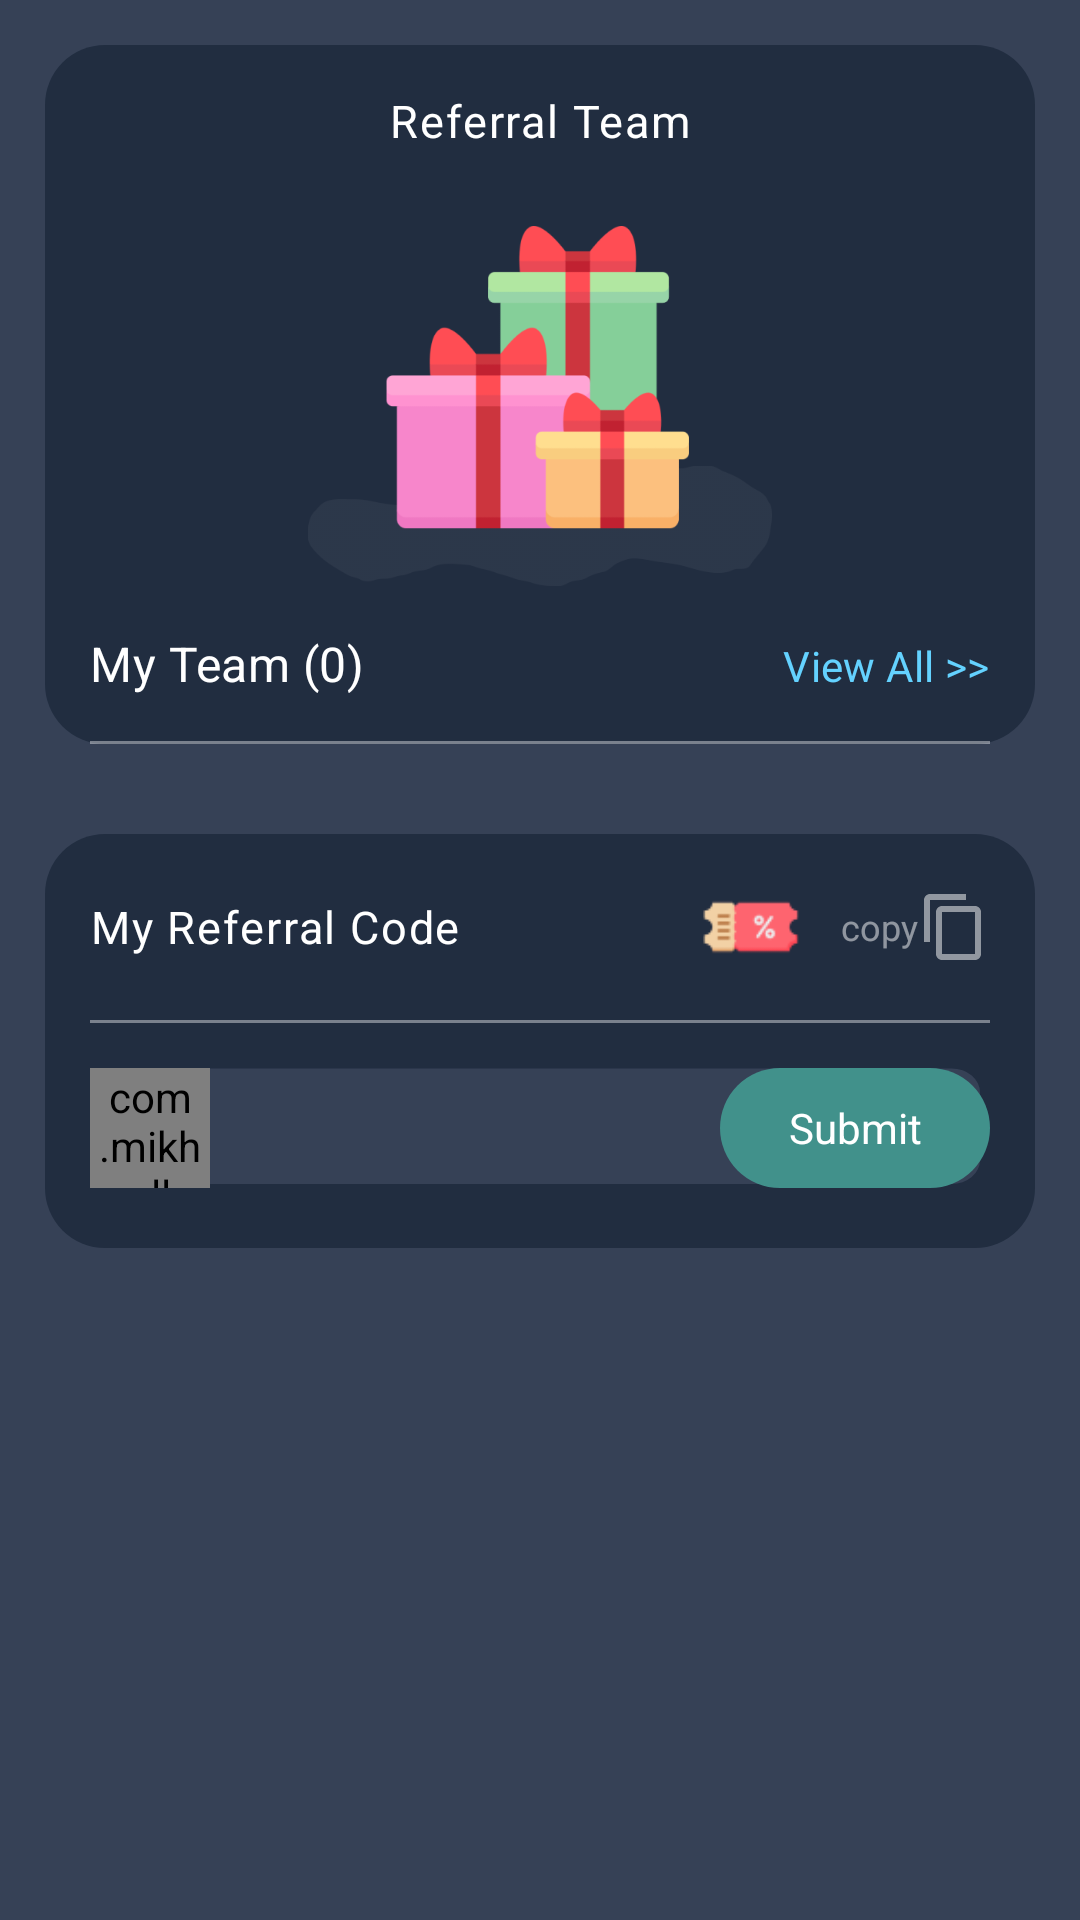

Icons on this 1080×1920 Android screen, each with the point to tap as point (x, y):
refferal code: point (751, 927)
team gift: point (537, 377)
